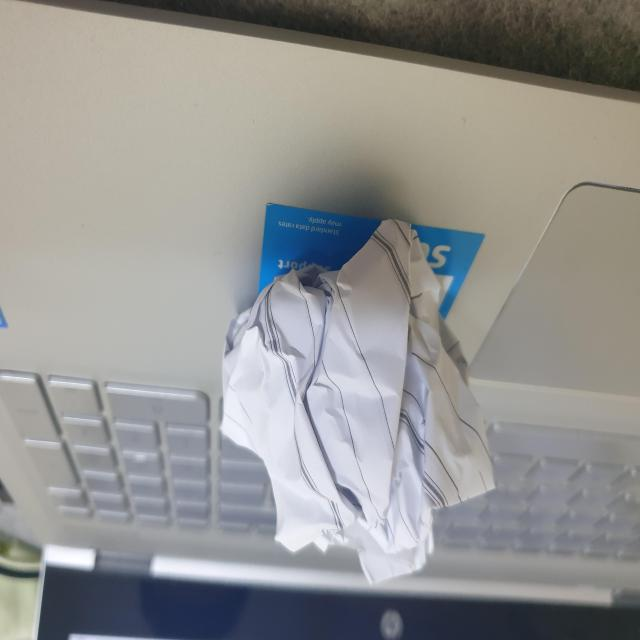kertas: (208, 202, 502, 600)
